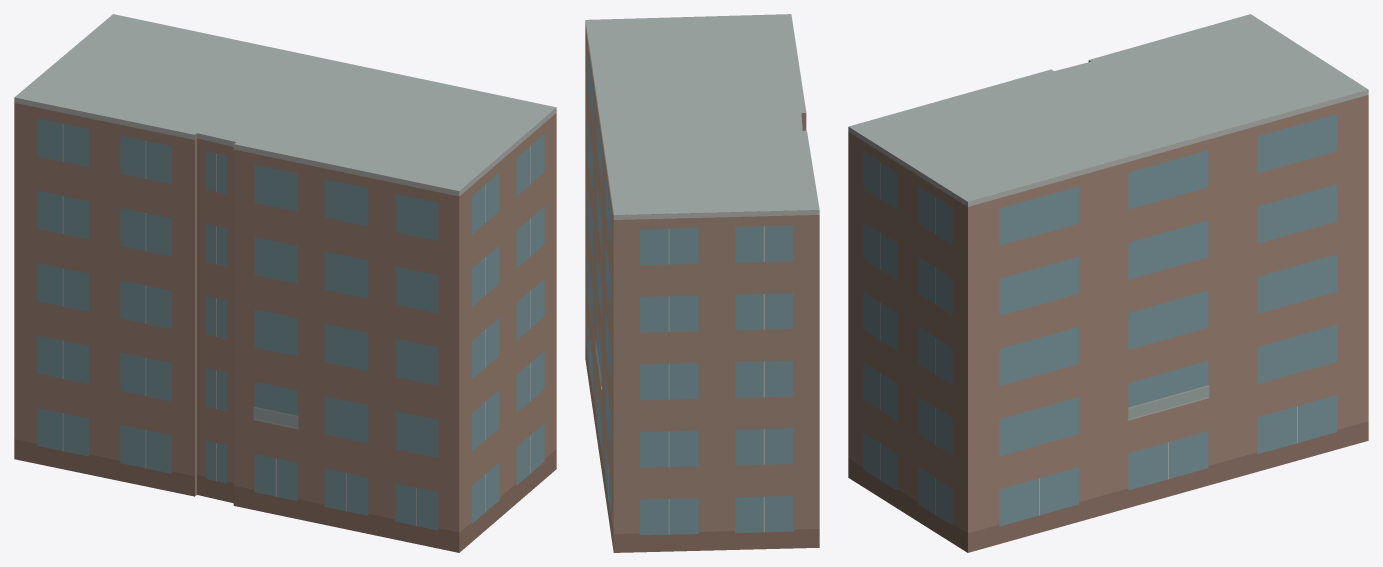
Rendered from survey-upis-32850389.glb.
3 renders of one model, left to right at view 1: azimuth 30°, elevation 25°; view 2: azimuth 150°, elevation 25°; view 3: azimuth 270°, elevation 25°, orthographic. The views are drawn at different scales.
Parts seen in each view (by area): view 1: survey-upis-32850389.tmp; view 2: survey-upis-32850389.tmp; view 3: survey-upis-32850389.tmp.
Boxes of the visible parts, box(x1,y1,x2,y2) form: survey-upis-32850389.tmp: box(14, 14, 556, 552); survey-upis-32850389.tmp: box(585, 14, 819, 552); survey-upis-32850389.tmp: box(848, 14, 1368, 552).
Size of the model in its own units: 19.06 by 16.6 by 22.31.
